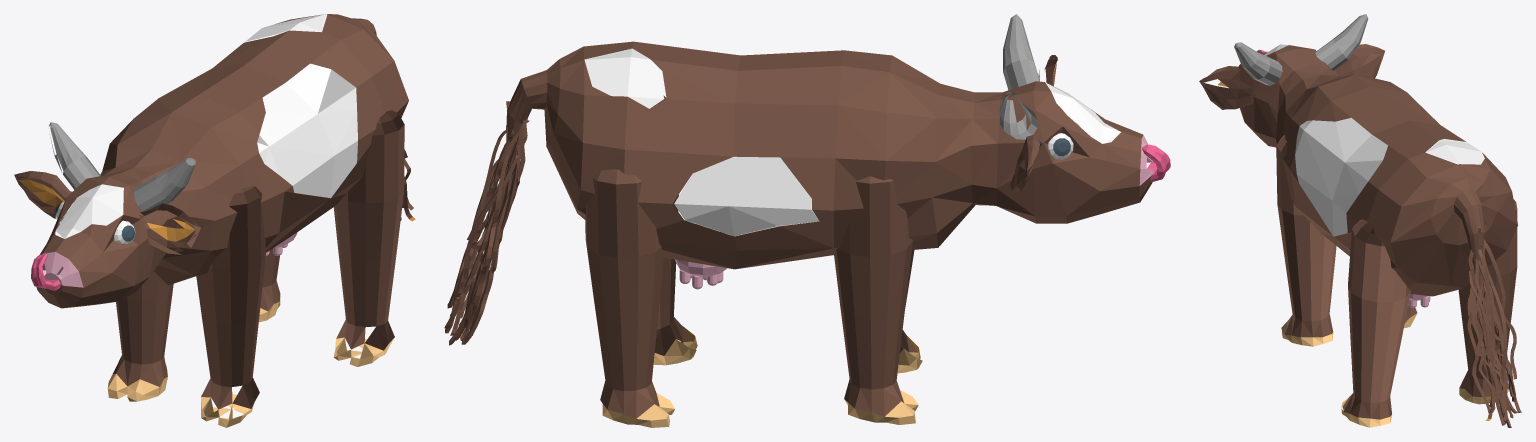
The model's file is animals-cow-040.glb.
The picture shows the model from 3 angles, left to right: view 1: azimuth 30°, elevation 25°; view 2: azimuth 150°, elevation 25°; view 3: azimuth 270°, elevation 25°; orthographic projection. The views are drawn at different scales.
Parts seen in each view (by area): view 1: group343256603, group602005743, group1278987042, group1240425597, group1326972913, group2000040321, group1278513921, group1821556237, group929635925, group281386144, group1737767360; view 2: group343256603, group929635925, group1240425597, group602005743, group2000040321, group1278513921, group1320010389, group1366704116, group1821556237, group518575137, group1278987042; view 3: group343256603, group602005743, group1278987042, group929635925, group1326972913, group1278513921, group2000040321, group1821556237, group979009592, group1366704116, group518575137, group569900610 (+3 smaller).
Part boxes in pixels (x1,y1,x2,y2): group343256603: [36, 14, 408, 308]; group602005743: [333, 110, 404, 366]; group1278987042: [196, 185, 265, 427]; group1240425597: [107, 278, 173, 401]; group1326972913: [139, 203, 200, 254]; group2000040321: [134, 157, 195, 211]; group1278513921: [49, 122, 100, 195]; group1821556237: [14, 171, 78, 218]; group929635925: [259, 106, 285, 322]; group281386144: [31, 254, 60, 290]; group1737767360: [113, 220, 135, 244]; group343256603: [506, 41, 1153, 269]; group929635925: [585, 169, 674, 427]; group1240425597: [833, 176, 918, 424]; group602005743: [651, 95, 697, 365]; group2000040321: [1003, 14, 1039, 90]; group1278513921: [999, 92, 1037, 139]; group1320010389: [461, 130, 525, 344]; group1366704116: [470, 117, 528, 304]; group1821556237: [1010, 134, 1041, 194]; group518575137: [450, 155, 519, 335]; group1278987042: [897, 250, 922, 373]; group343256603: [1238, 44, 1517, 296]; group602005743: [1341, 219, 1410, 427]; group1278987042: [1276, 135, 1336, 346]; group929635925: [1458, 199, 1517, 404]; group1326972913: [1199, 66, 1259, 109]; group1278513921: [1315, 14, 1368, 70]; group2000040321: [1234, 42, 1282, 85]; group1821556237: [1334, 44, 1384, 78]; group979009592: [1468, 271, 1505, 425]; group1366704116: [1484, 239, 1516, 379]; group518575137: [1488, 270, 1513, 418]; group569900610: [1478, 249, 1500, 394].
Size of the model in its own units: 4.35 by 2.51 by 2.7.
